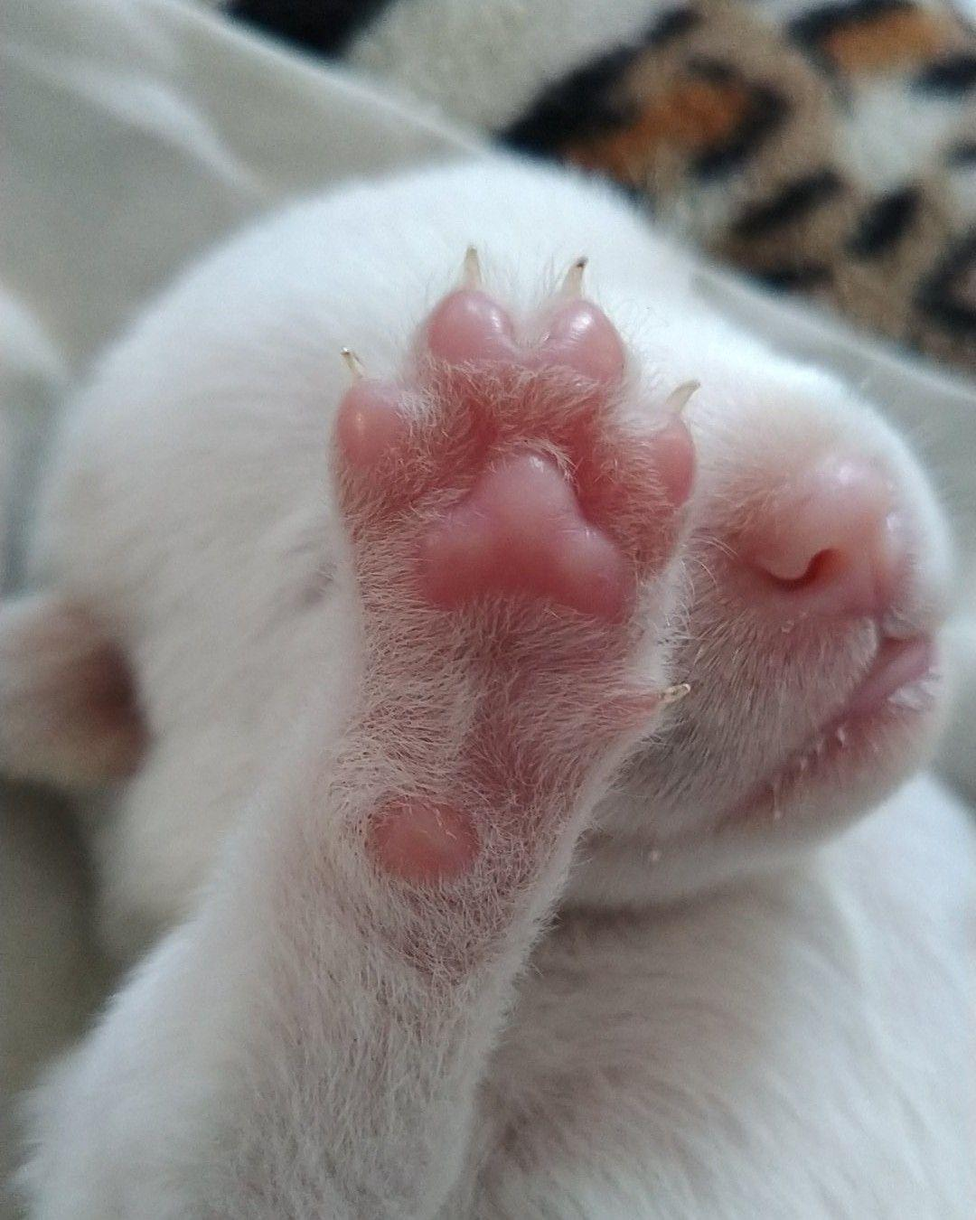puppy-dog: (1, 152, 976, 1220)
